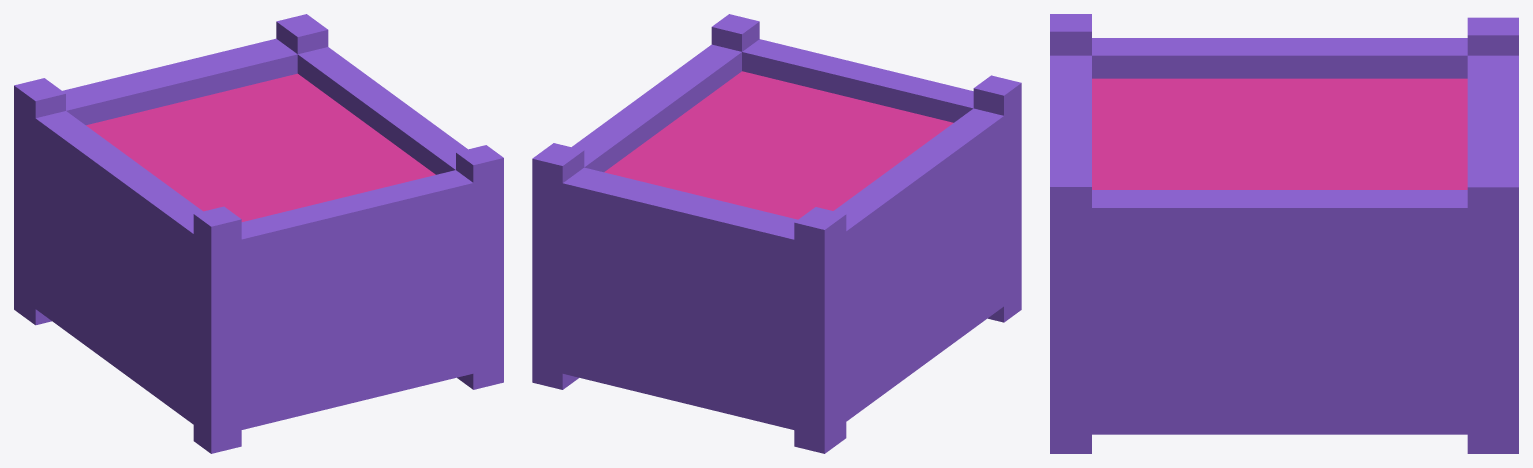
3 renders of one model, left to right at view 1: azimuth 30°, elevation 25°; view 2: azimuth 150°, elevation 25°; view 3: azimuth 270°, elevation 25°, orthographic. The views are drawn at different scales.
Visible parts, largest first — view 1: Cube.001, Cube; view 2: Cube.001, Cube; view 3: Cube.001, Cube.
Part boxes in pixels (x1,y1,x2,y2): Cube.001: [14, 14, 503, 453]; Cube: [86, 73, 435, 221]; Cube.001: [532, 14, 1021, 453]; Cube: [604, 71, 953, 219]; Cube.001: [1050, 14, 1518, 453]; Cube: [1092, 78, 1467, 189].
Bounding box in the file's own units: 19.19 × 14.23 × 22.39.
